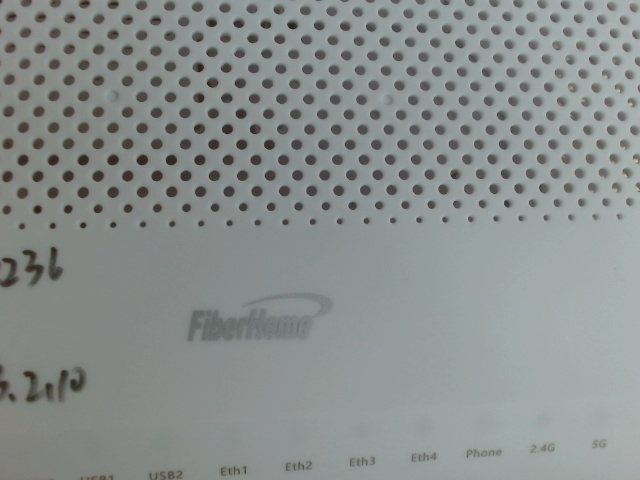AI_FiberHome: (176, 285, 343, 352)
